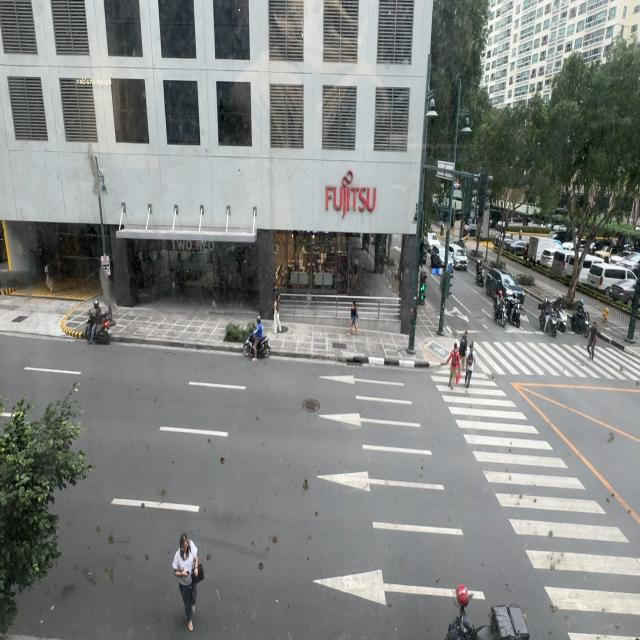crossing: (445, 342, 461, 389), (464, 343, 477, 390), (586, 316, 598, 363), (459, 325, 468, 348)
jaywalking: (173, 534, 201, 630)
